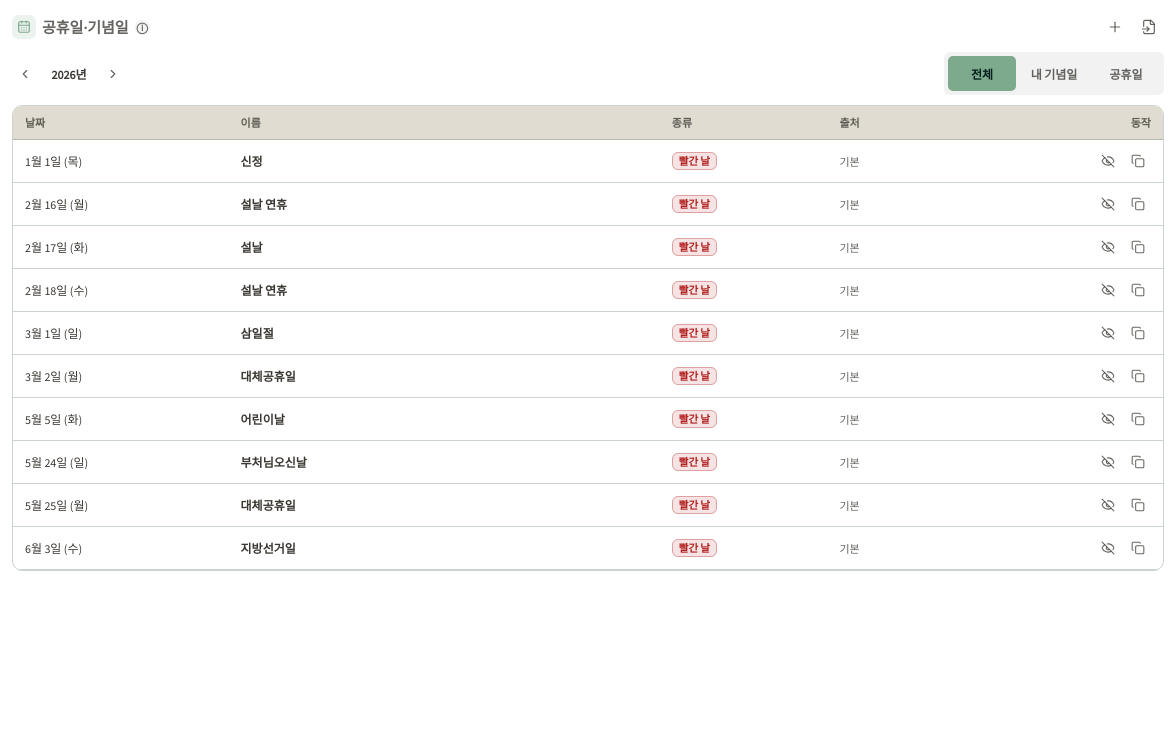
Test: DayMarksSection — 공휴일·기념일 표 (PLAN-2026-09-19-calendar-schedule §5.2) › 표가 끝난 해(2031~)엔 '불러오기로 보충' 한 줄
Click the button with test id "day-marks-year-next" at [113, 74], box [100, 60, 126, 86]
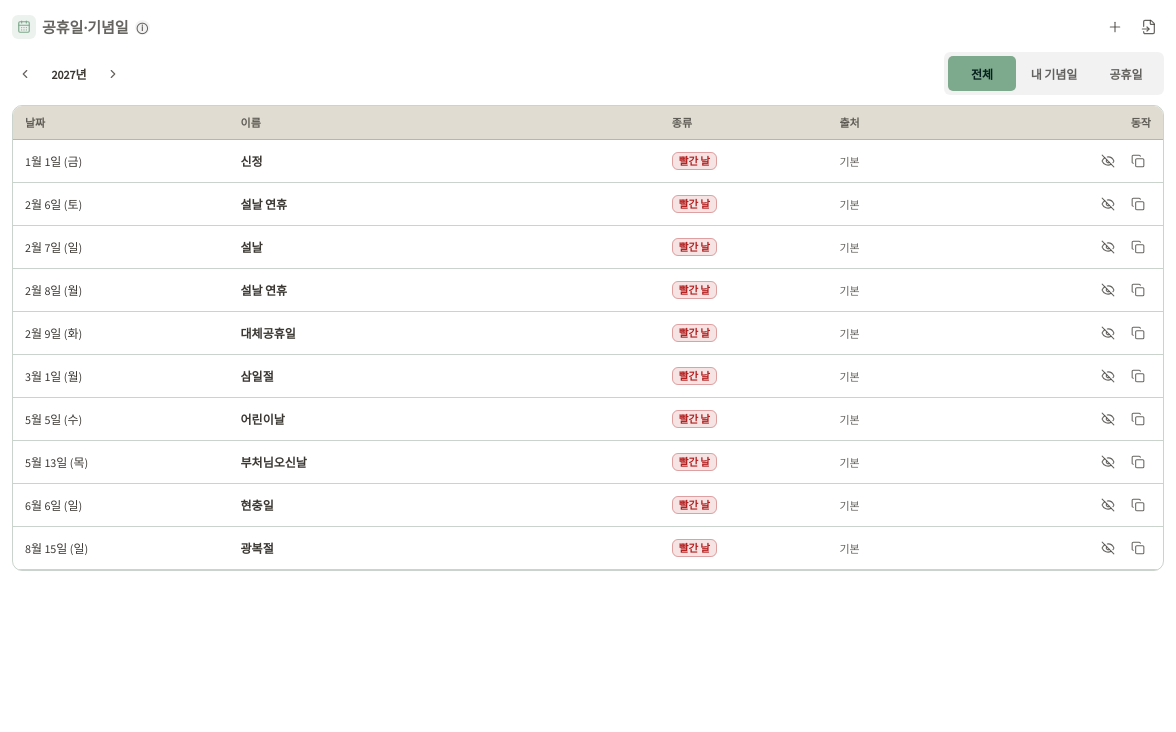
Click the button with test id "day-marks-year-next" at [113, 74], box [100, 60, 126, 86]
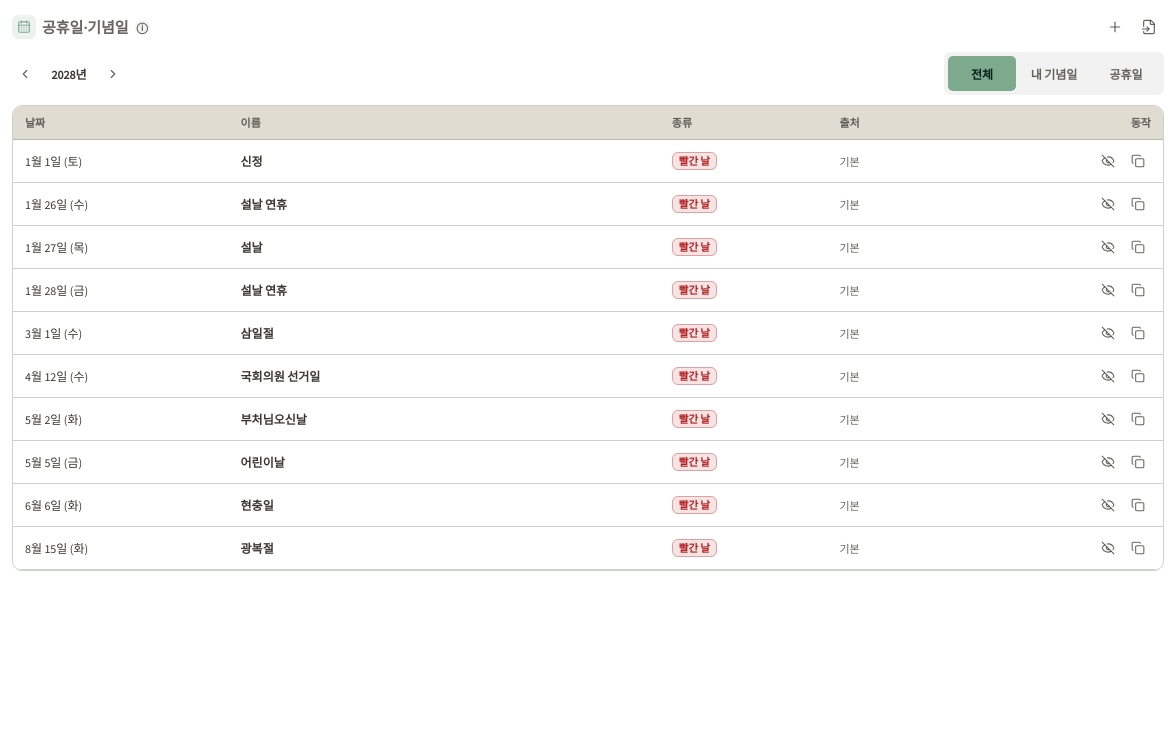
Click the button with test id "day-marks-year-next" at [113, 74], box [100, 60, 126, 86]
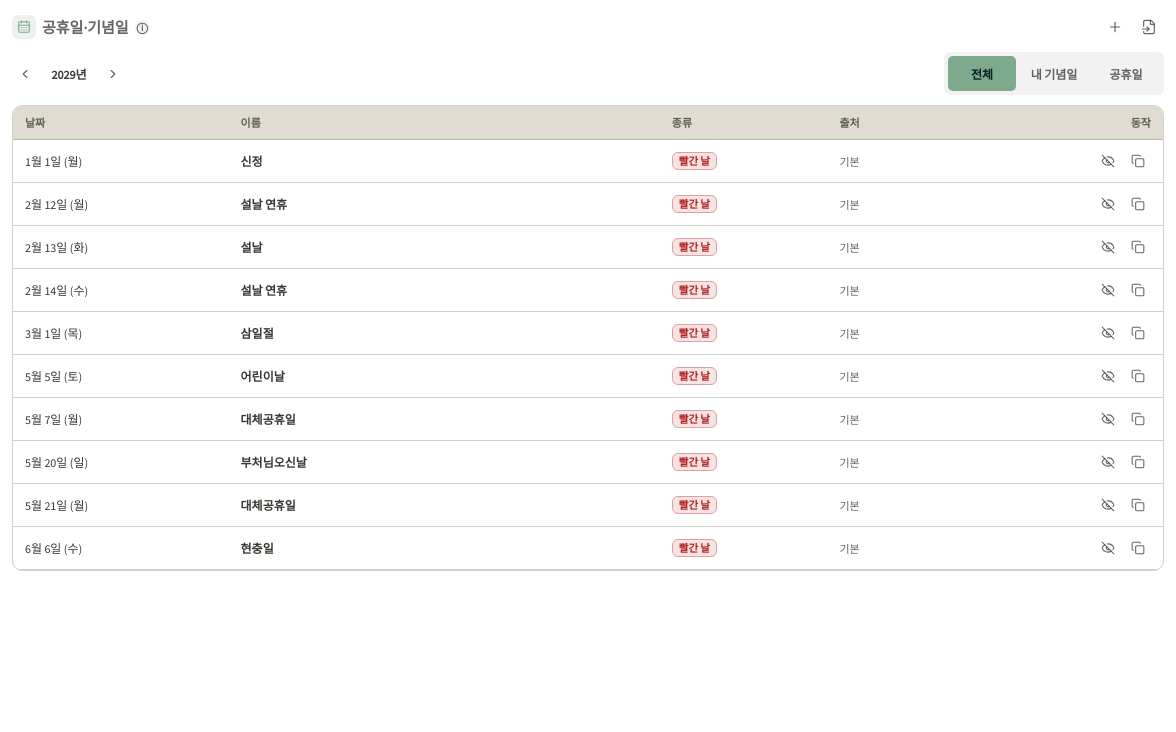
Click the button with test id "day-marks-year-next" at [113, 74], box [100, 60, 126, 86]
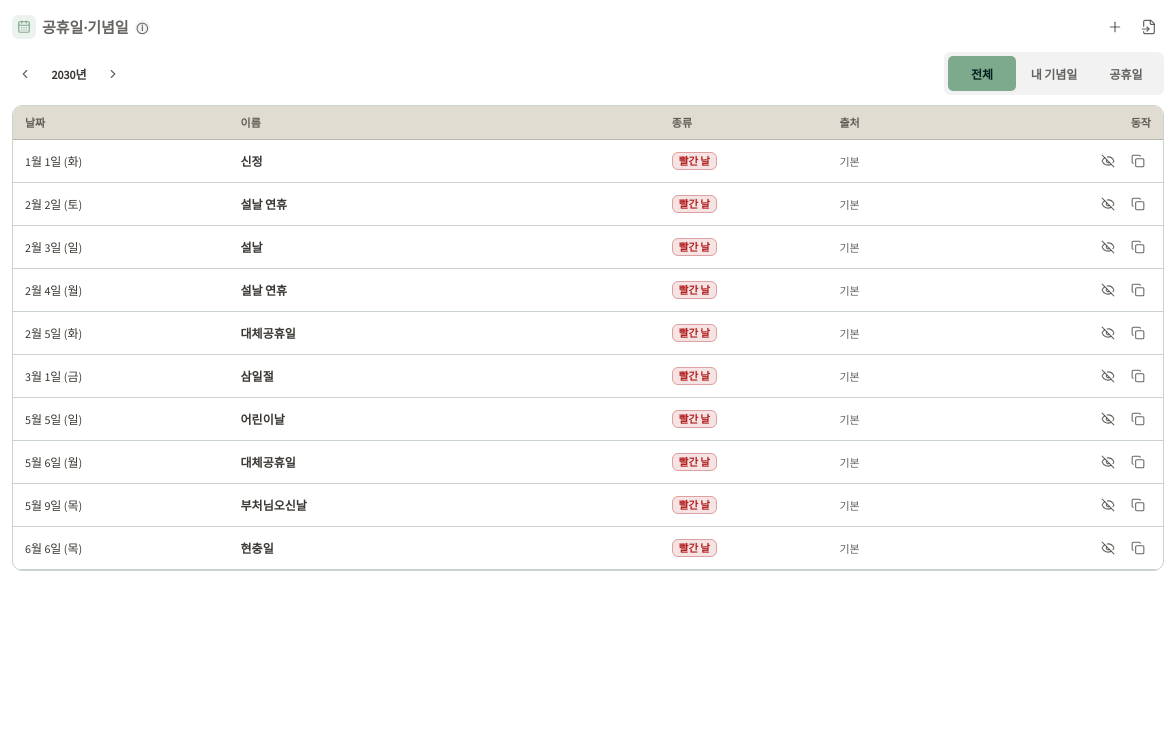
Click the button with test id "day-marks-year-next" at [113, 74], box [100, 60, 126, 86]
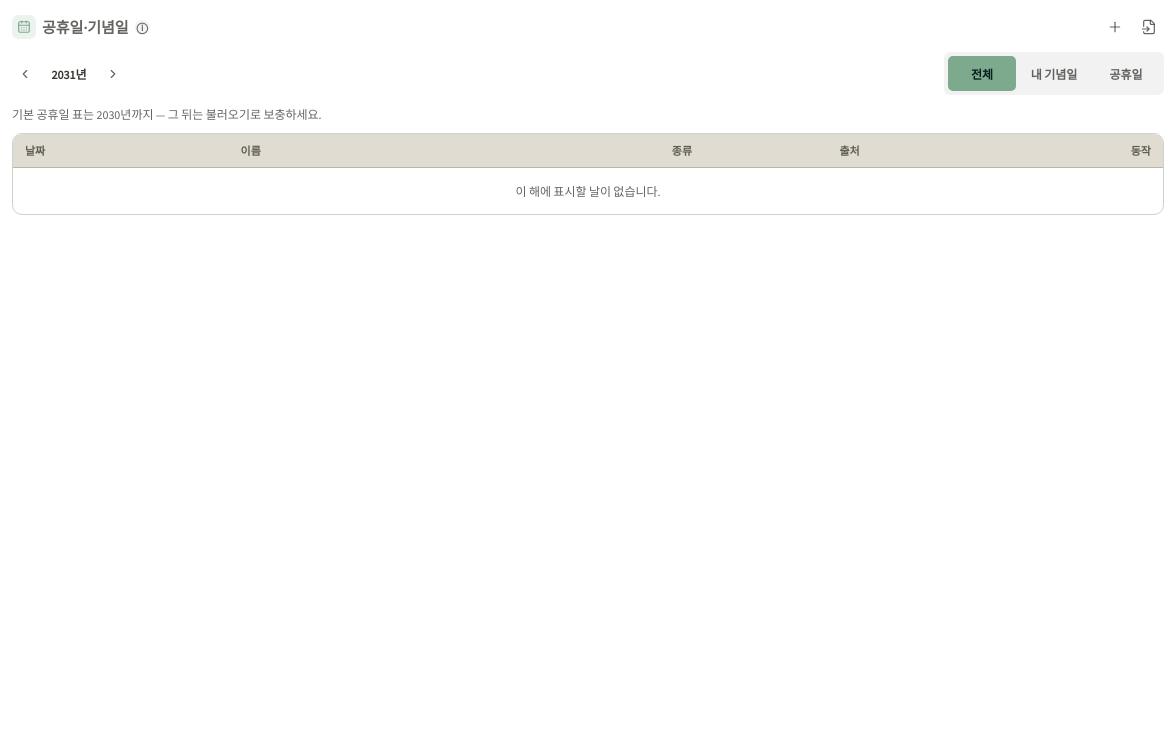
Now the text with test id "day-marks-year" reads "2031년", box [52, 66, 86, 82]
Now the text "기본 공휴일 표는 2030년까지 — 그 뒤는 불러오기로 보충하세요." is shown, box [12, 107, 322, 123]
